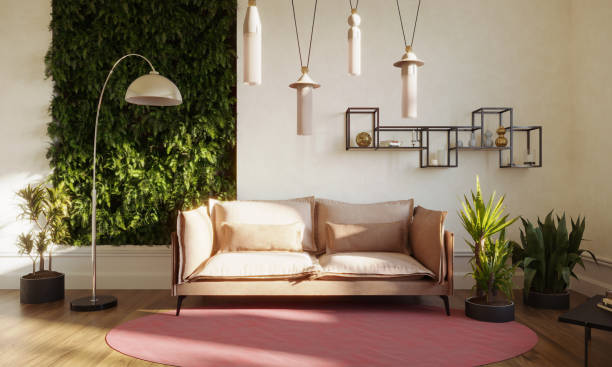floor lamp: (68, 50, 185, 314)
large plant: (458, 174, 516, 324), (517, 207, 597, 311), (15, 179, 71, 305)
sofa: (170, 195, 456, 318)
